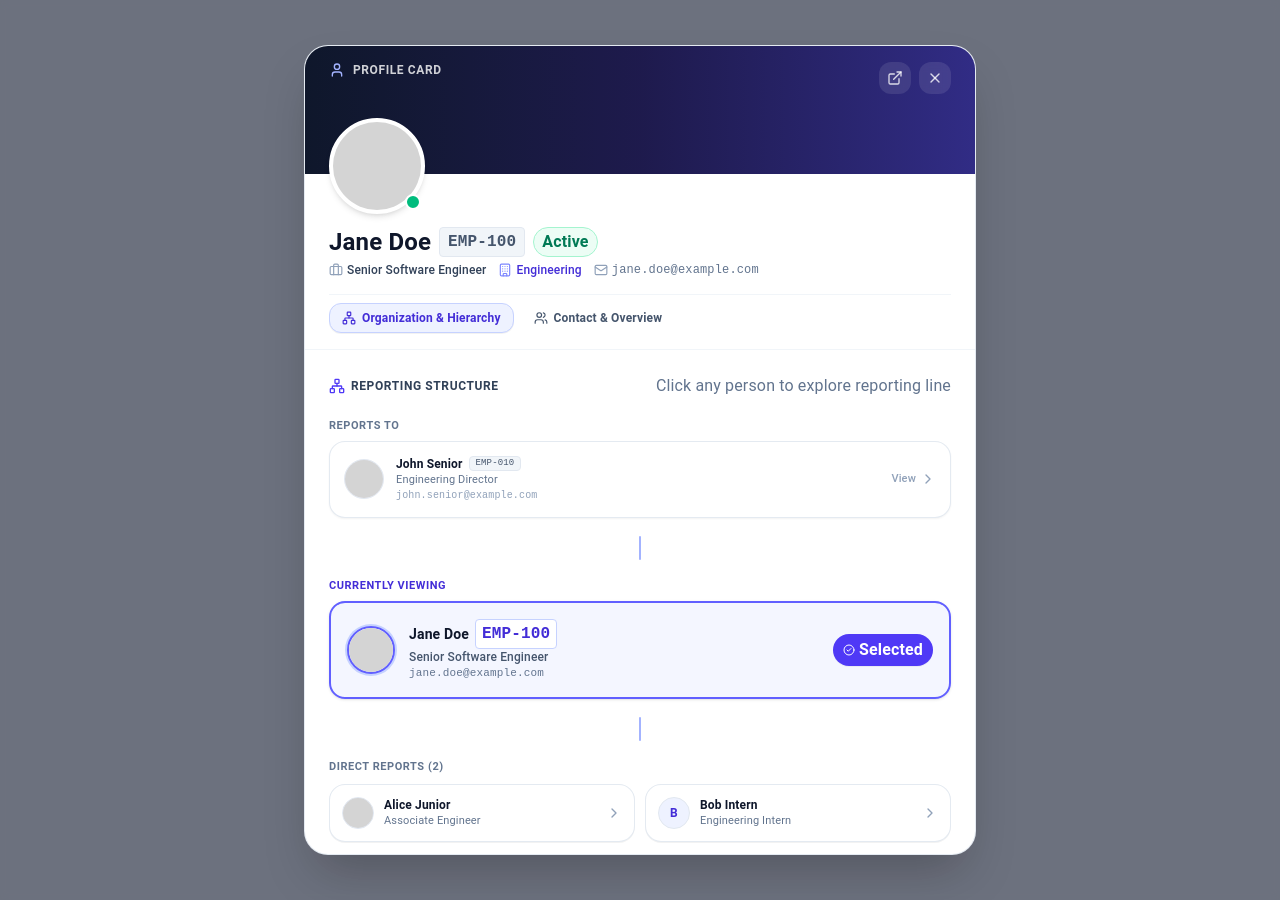
Test: UserProfileModal Component › navigates to manager in hierarchy and allows going back via Back button
Expected: the heading "Jane Doe" is shown, left=329, top=226, right=431, bottom=258
Note: Click on manager card to navigate up the hierarchy
Click the button with test id "hierarchy-manager-card" at (364, 479), box left=329, top=440, right=951, bottom=518
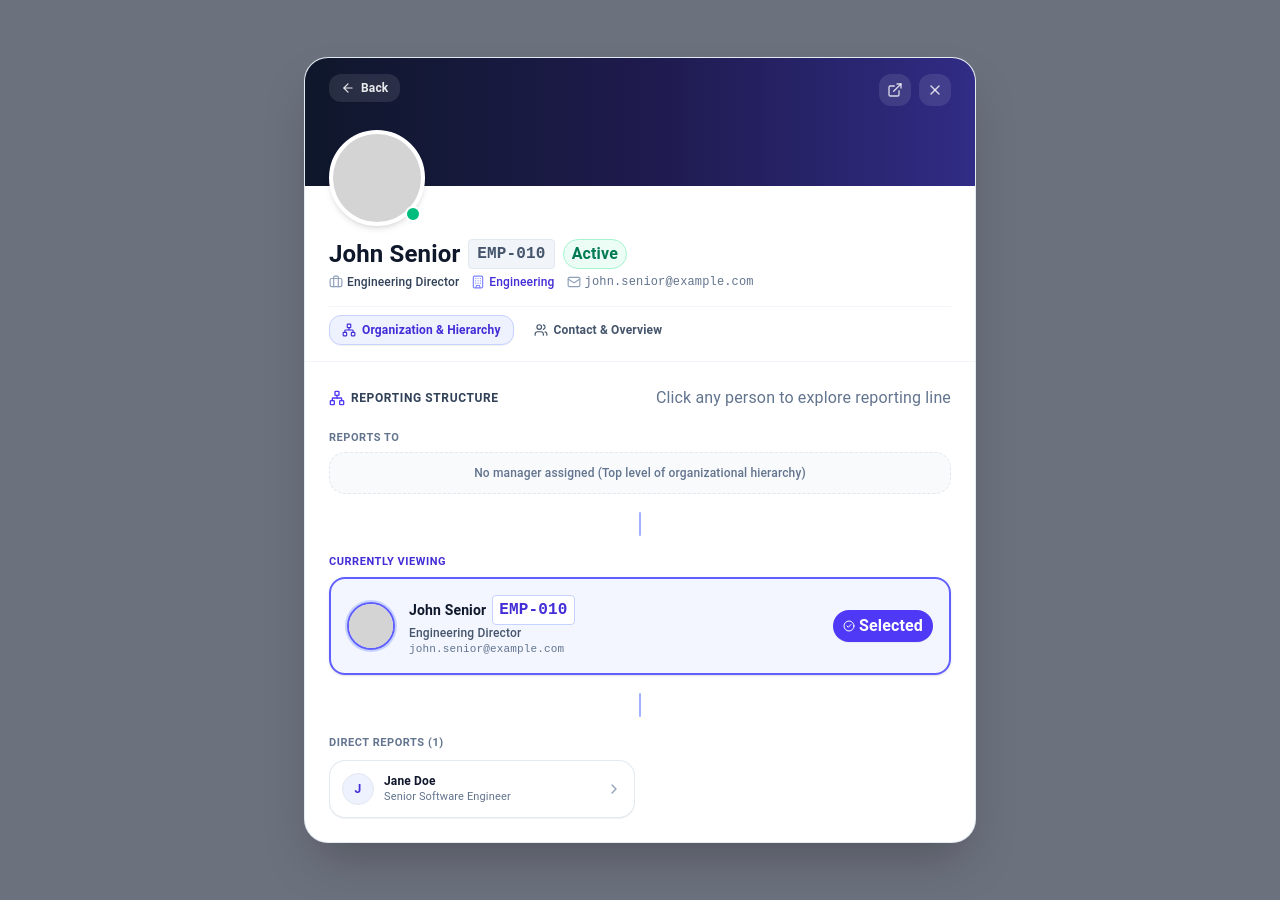
Expected: the heading "John Senior" is shown, left=329, top=238, right=460, bottom=270
Expected: the button with test id "profile-modal-back-btn" is shown
Note: Click Back button to return to Jane Doe
Click the button with test id "profile-modal-back-btn" at (365, 88), box left=329, top=74, right=400, bottom=102
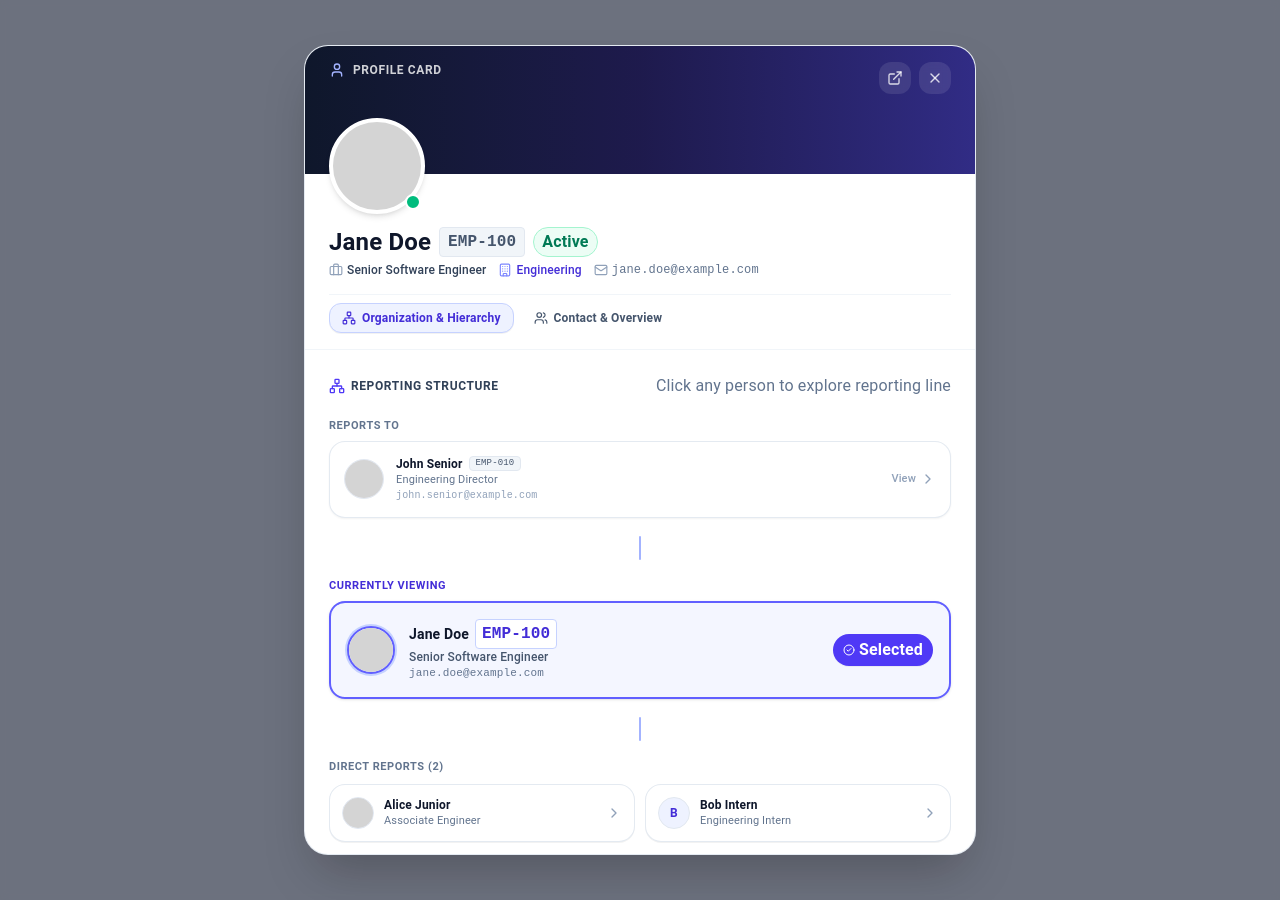
Expected: the heading "Jane Doe" is shown, left=329, top=226, right=431, bottom=258
